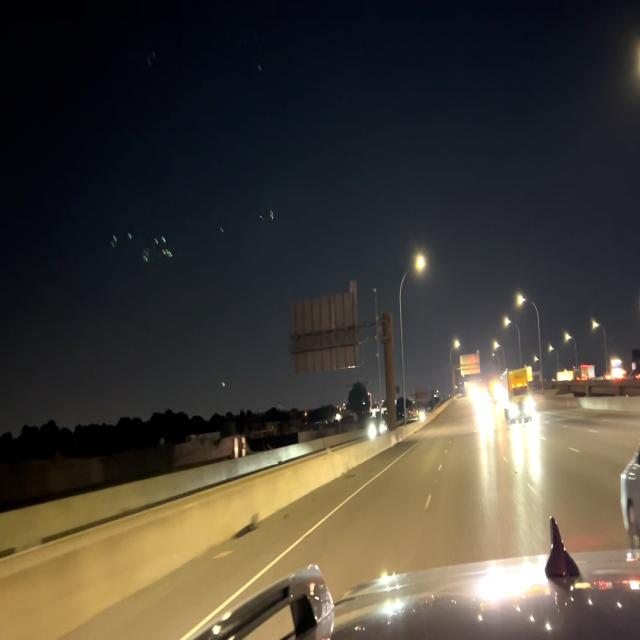back-of-sign: (289, 281, 360, 376), (459, 349, 482, 377)
